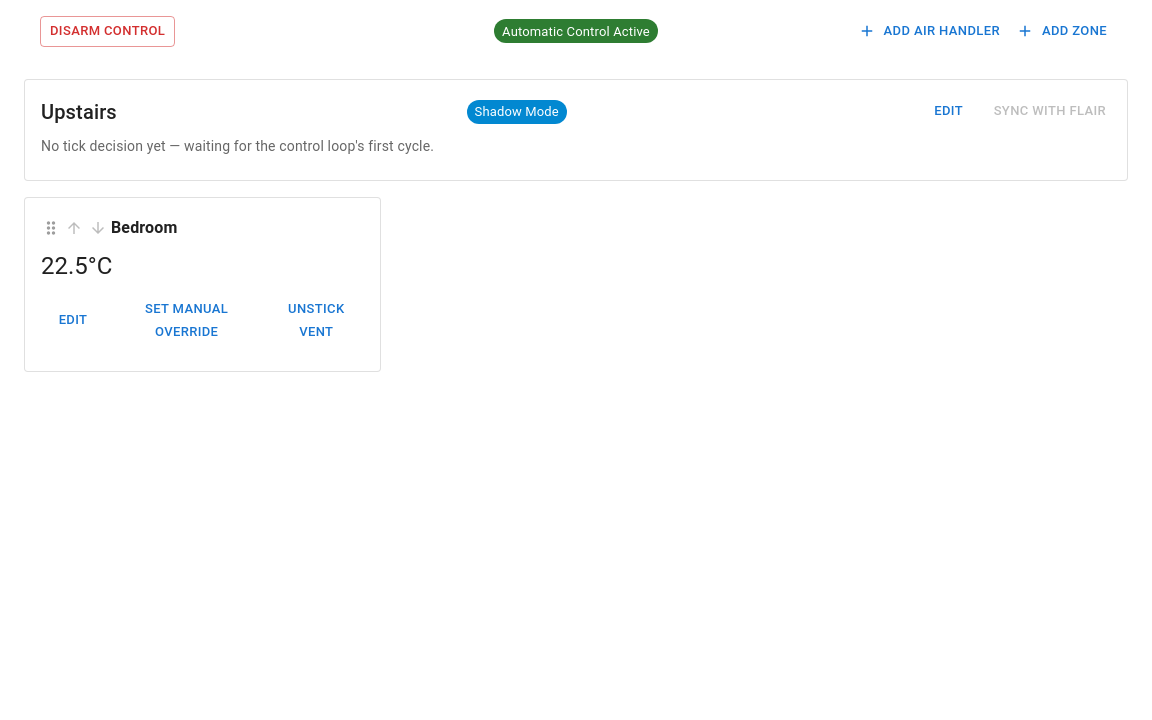
Test: DashboardPage › discards an earlier save's stale response when it resolves after a newer save
Expected: the heading "Bedroom" is shown, left=111, top=214, right=178, bottom=242
Click the button "Edit" below "22.5°C" at (73, 321), box left=41, top=294, right=105, bottom=347
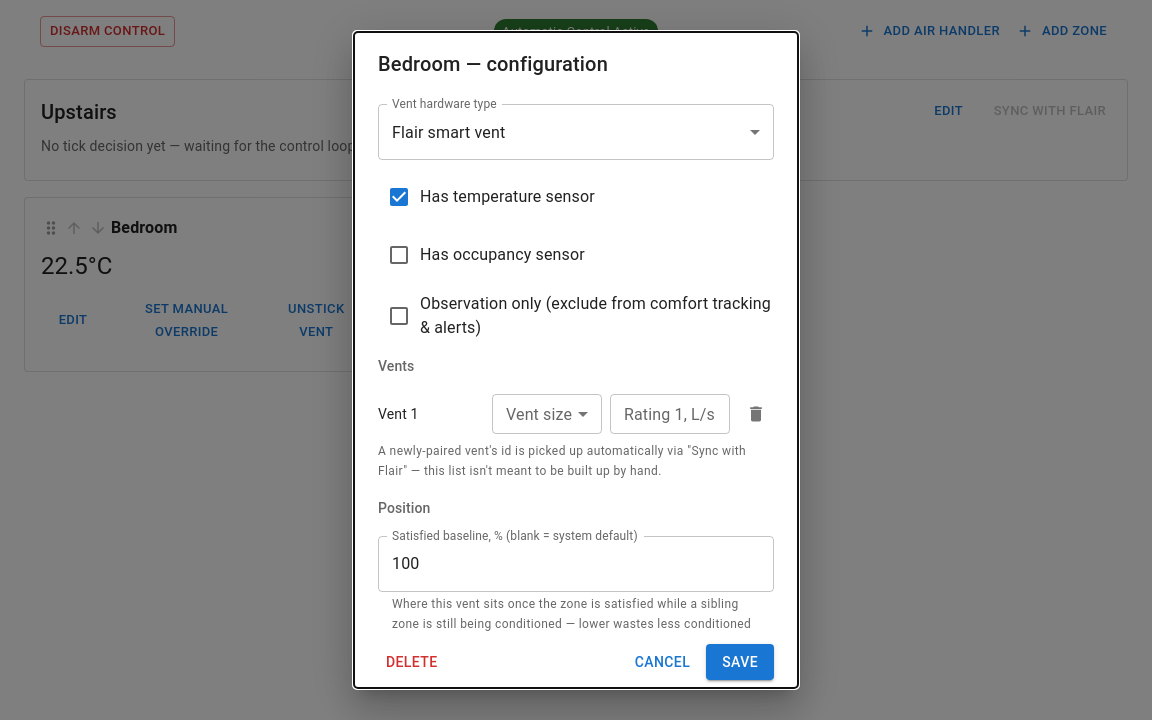
Click the button "Save" at (740, 662), box left=706, top=644, right=774, bottom=680
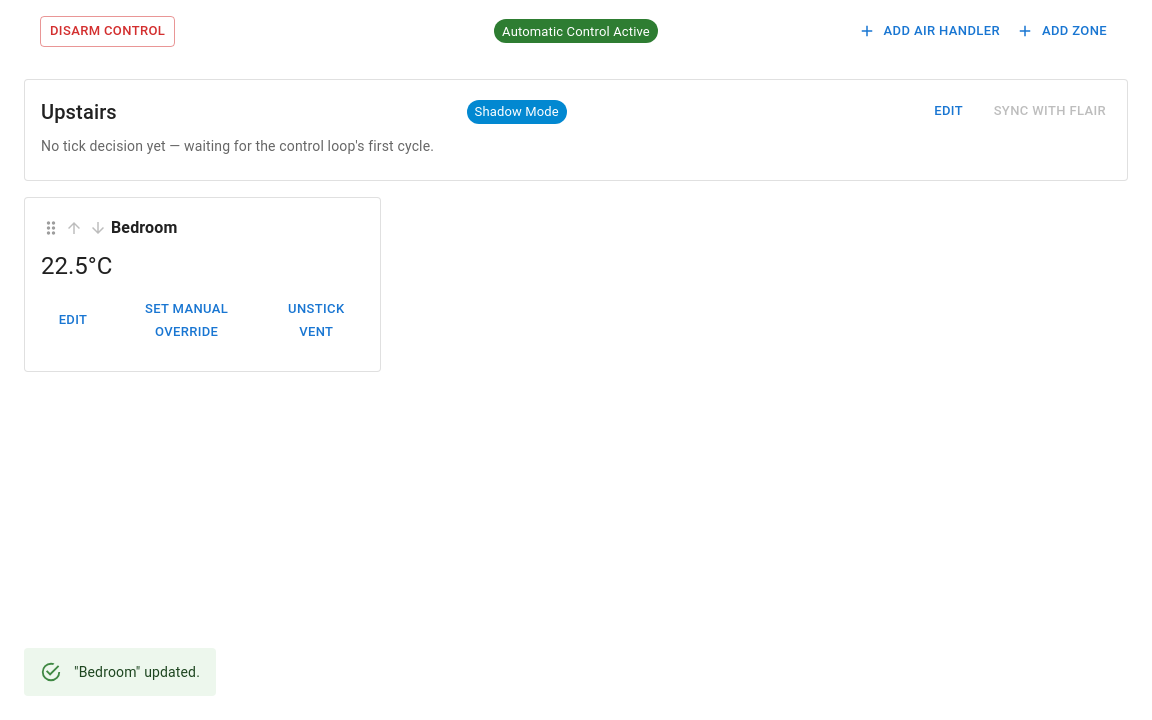
Click the button "Edit" below "22.5°C" at (73, 321), box left=41, top=294, right=105, bottom=347
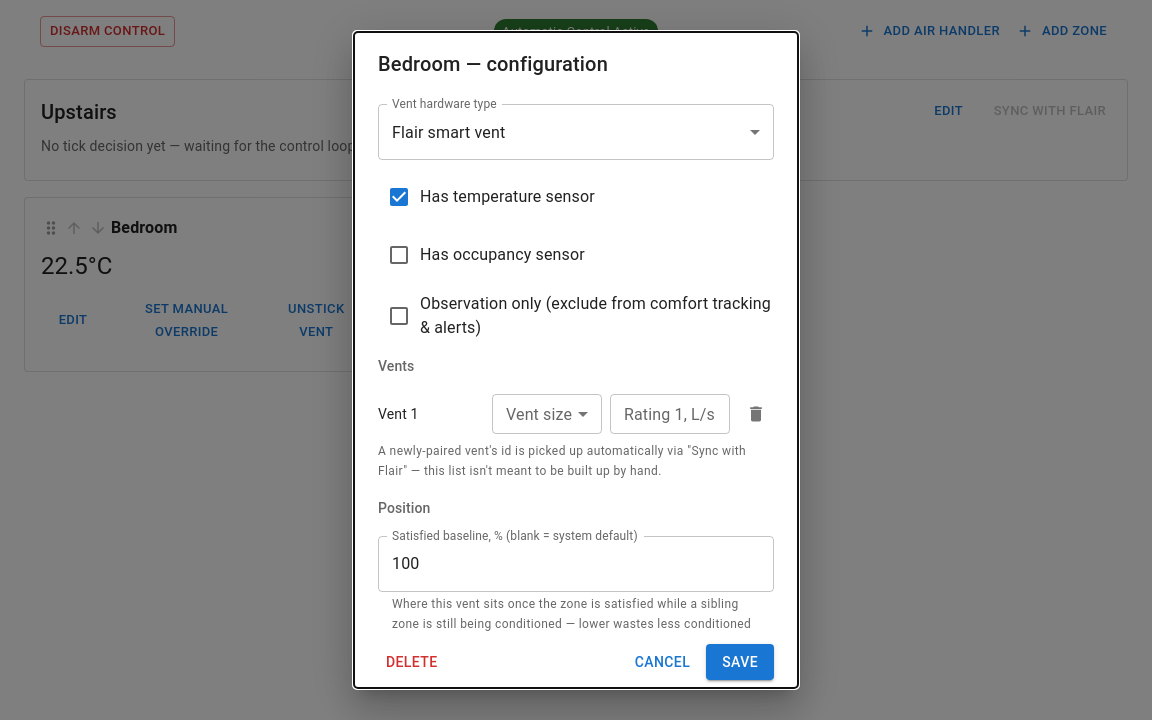
Click the button "Save" at (740, 662), box left=706, top=644, right=774, bottom=680
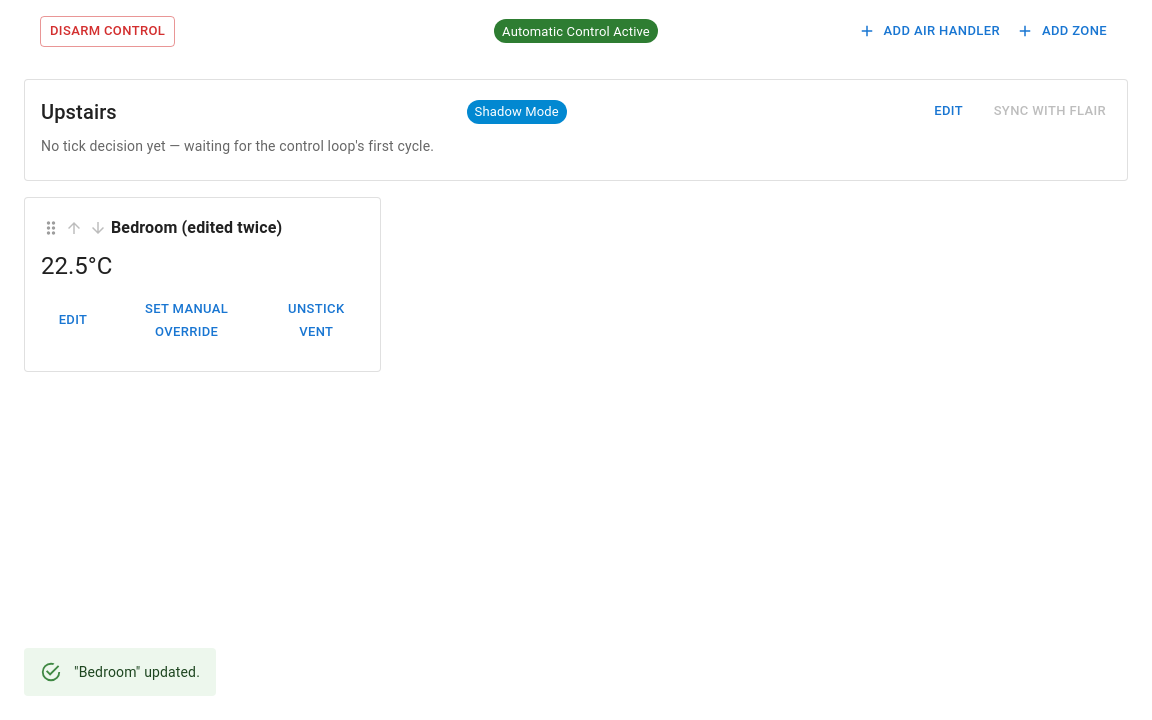
Now the heading "Bedroom (edited twice)" is shown, box left=111, top=214, right=282, bottom=242
